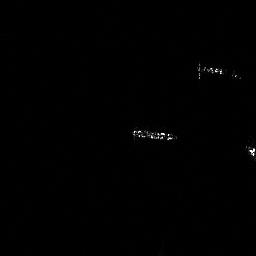ship: (193, 59, 245, 84), (126, 125, 180, 146)
